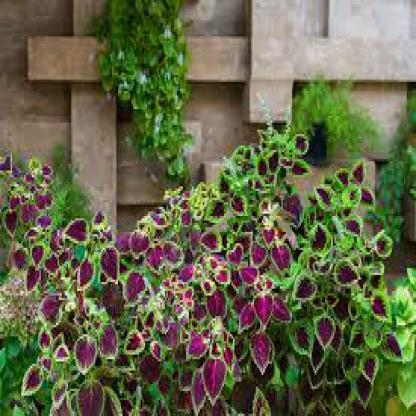Bunga Coleus: (3, 188, 416, 388)
